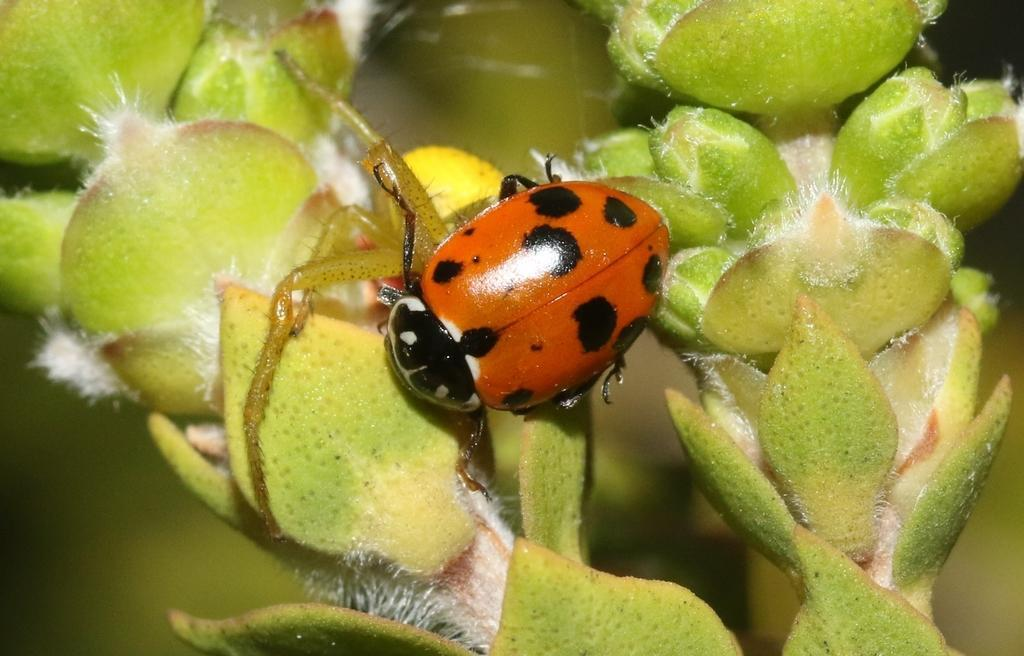ladybug: (369, 158, 679, 506)
